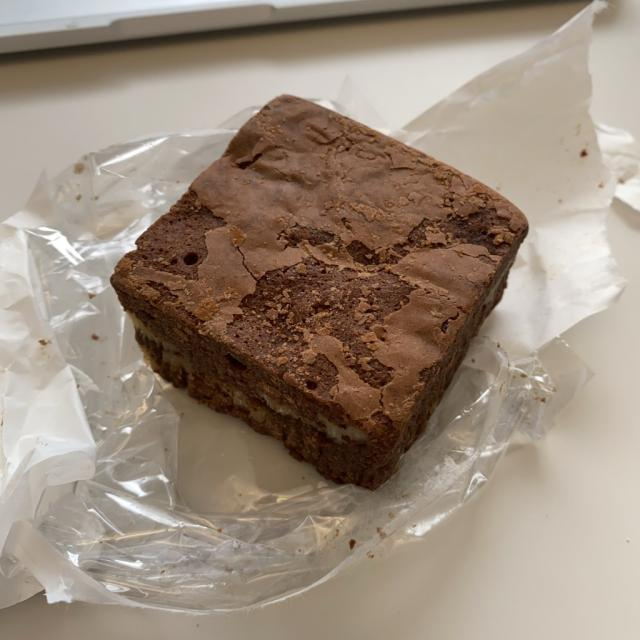brownie: (121, 102, 517, 483)
